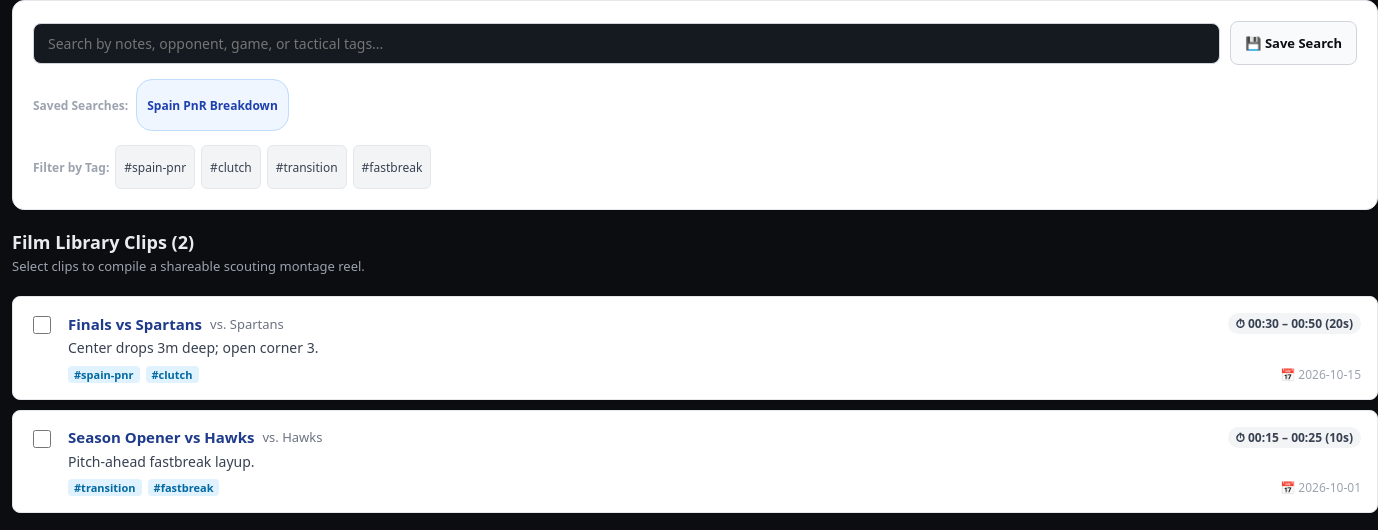
Test case: FilmSearch (WP-3.3) › filters clips dynamically by typing a keyword
Type "Spartans" into the field named "Search clips".
click(627, 43); type("Spartans")  # box top-left (33, 22), bottom-right (1220, 64)
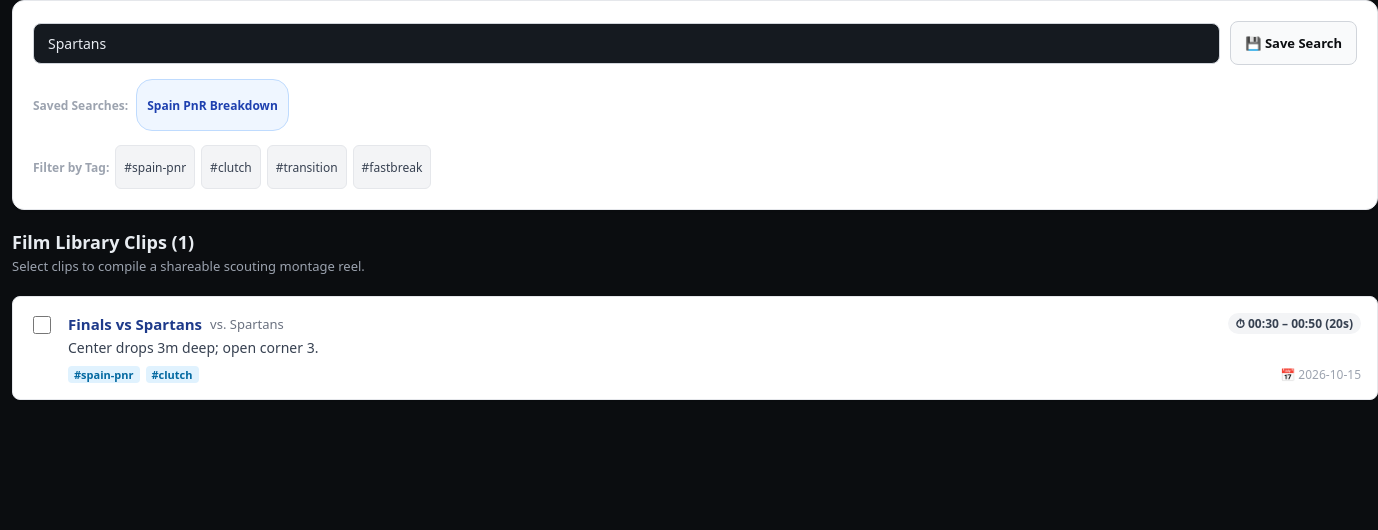
expect the link "Finals vs Spartans" is shown: met, box top-left (68, 314), bottom-right (202, 334)
expect the link "Season Opener vs Hawks" is gone: met
